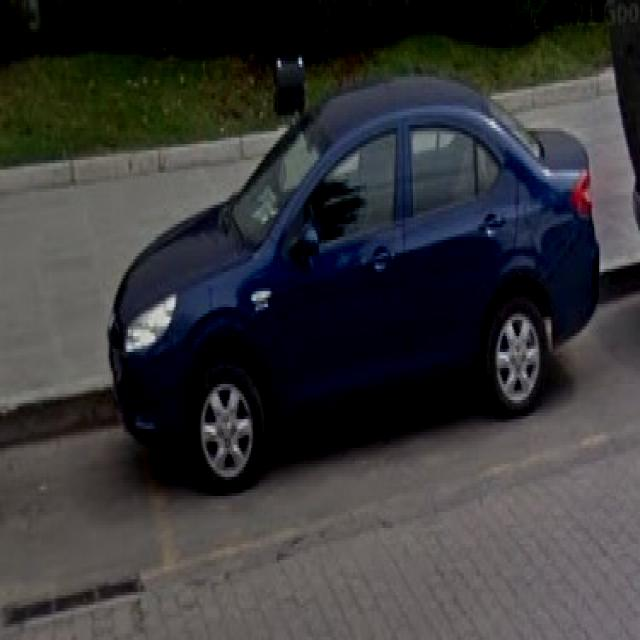car: (111, 65, 600, 491)
